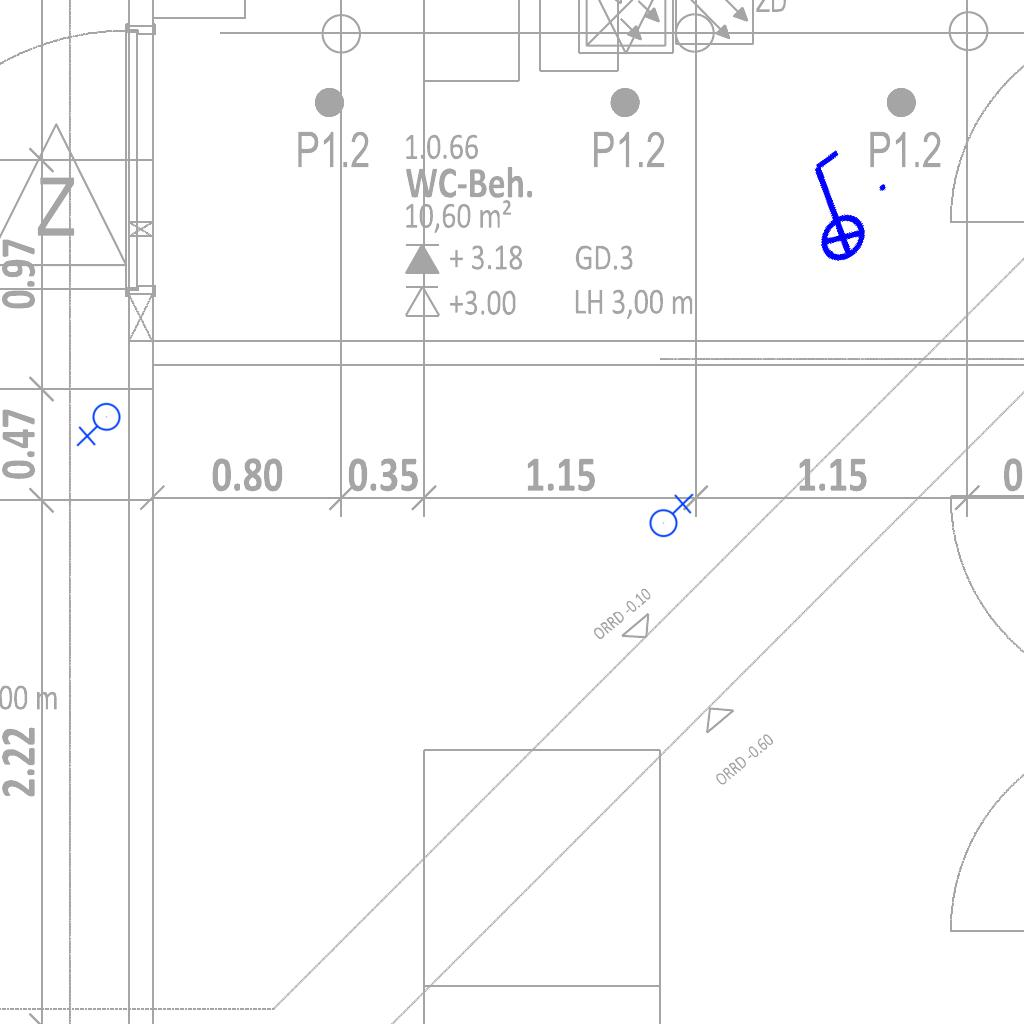Ausschalter_beleuchtet: (760, 134, 906, 282)
Elektroanschluss_allgemein_230V_Geraeteanschlussdose_230V: (76, 402, 125, 449), (645, 491, 694, 538)
